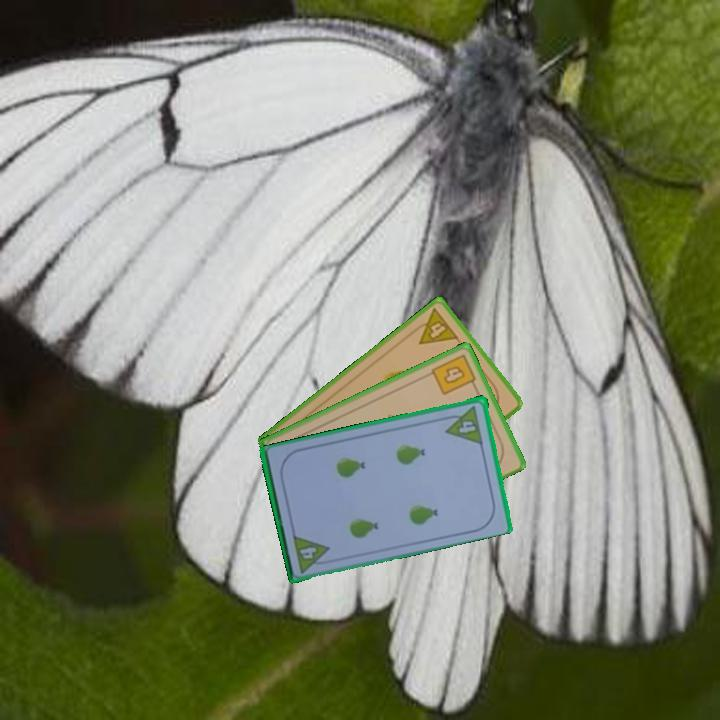4b: (428, 350, 480, 398)
4p: (407, 304, 461, 347), (440, 402, 486, 446), (290, 531, 335, 575)
